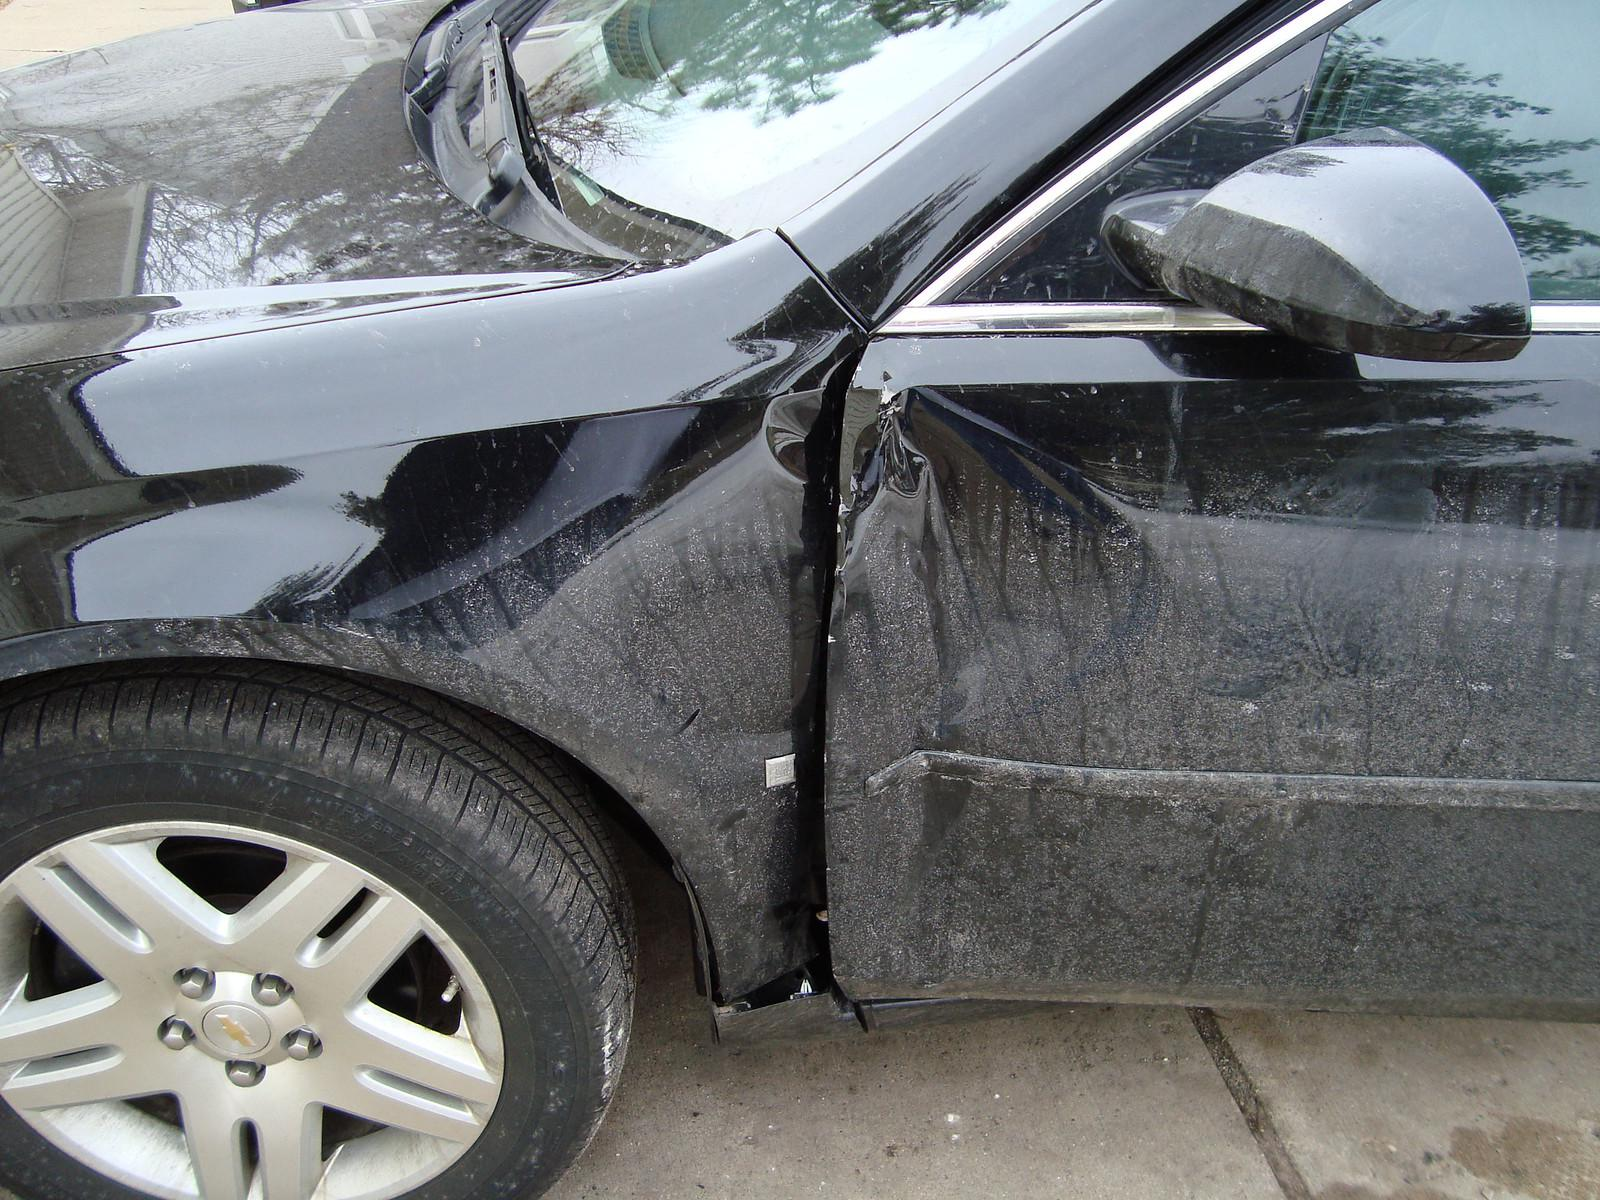fender-dent: (38, 430, 950, 1013)
